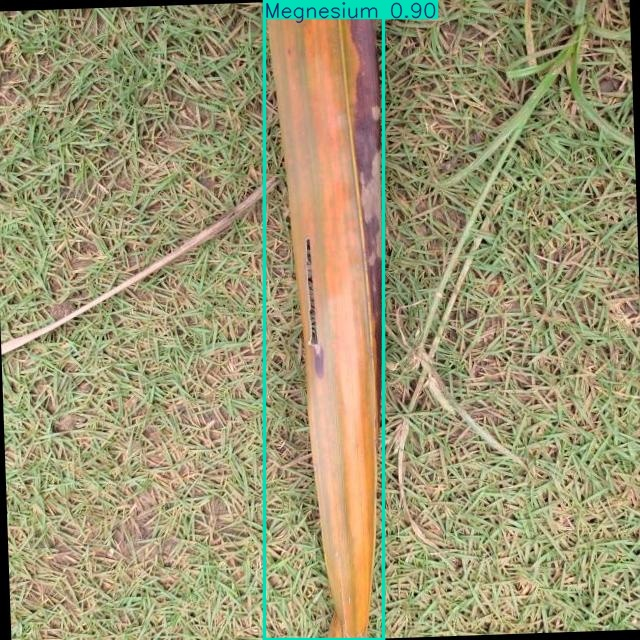Megnesium: (265, 0, 383, 640)
